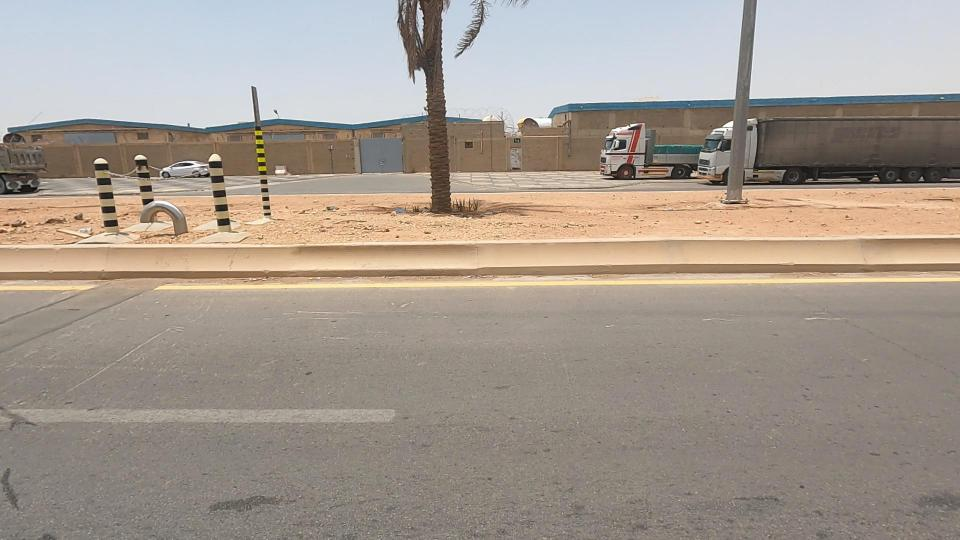CLUTTER_SIDEWALK: (421, 147, 827, 272), (202, 155, 538, 273)
GARBAGE: (371, 180, 441, 241)
